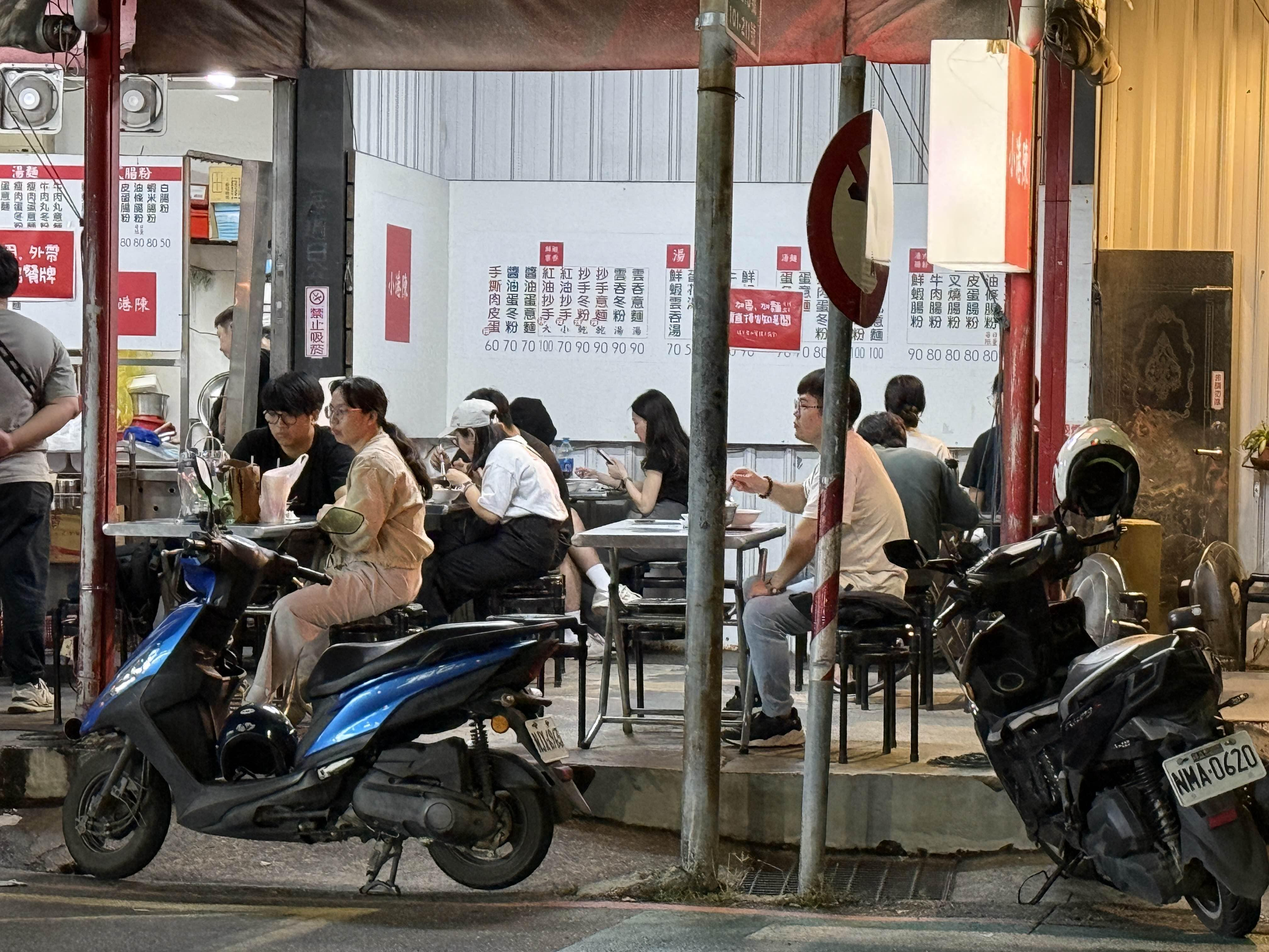NoHelmet: (262, 371, 323, 445), (329, 378, 388, 442), (439, 400, 500, 460), (629, 389, 674, 442), (888, 374, 928, 428)
NoVest: (343, 445, 428, 573)
